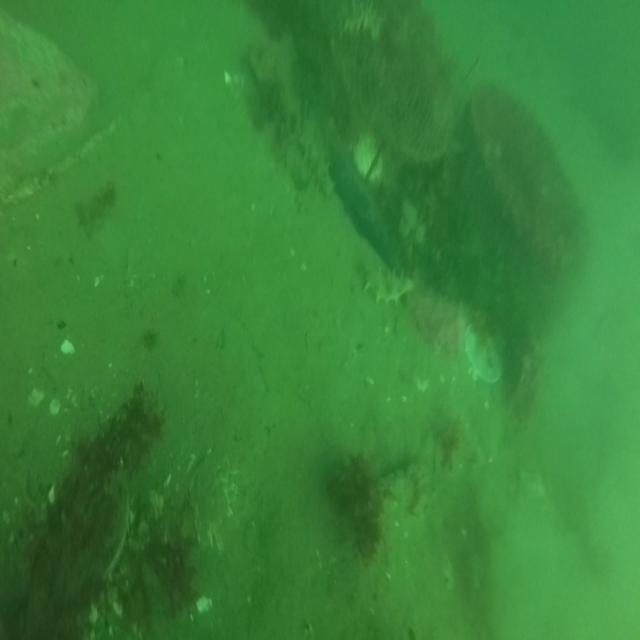holothurian: (292, 113, 338, 192), (354, 255, 418, 304), (340, 2, 385, 41)
scallop: (466, 322, 502, 384), (354, 132, 386, 182)
